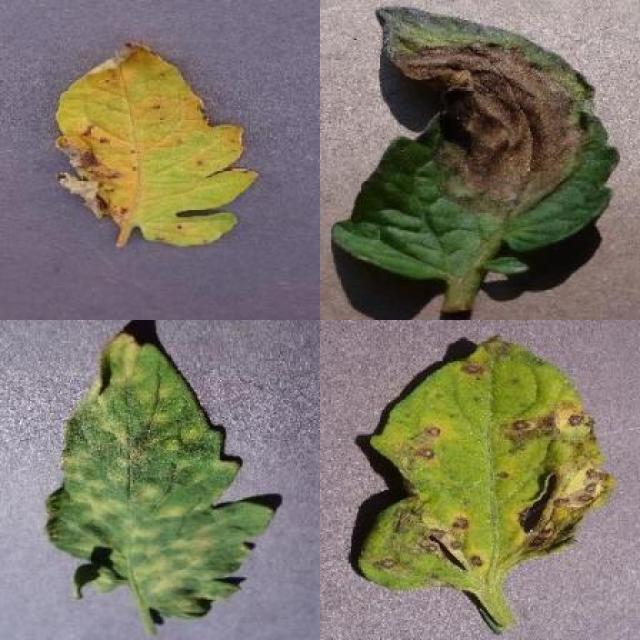Late Blight: (332, 1, 618, 279)
Leaf Mold: (45, 328, 275, 622)
Septoria: (360, 335, 616, 588), (58, 42, 261, 248)
